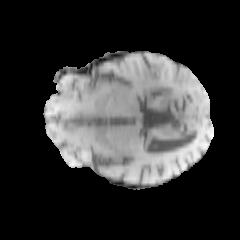glioma: (115, 68, 198, 108)
